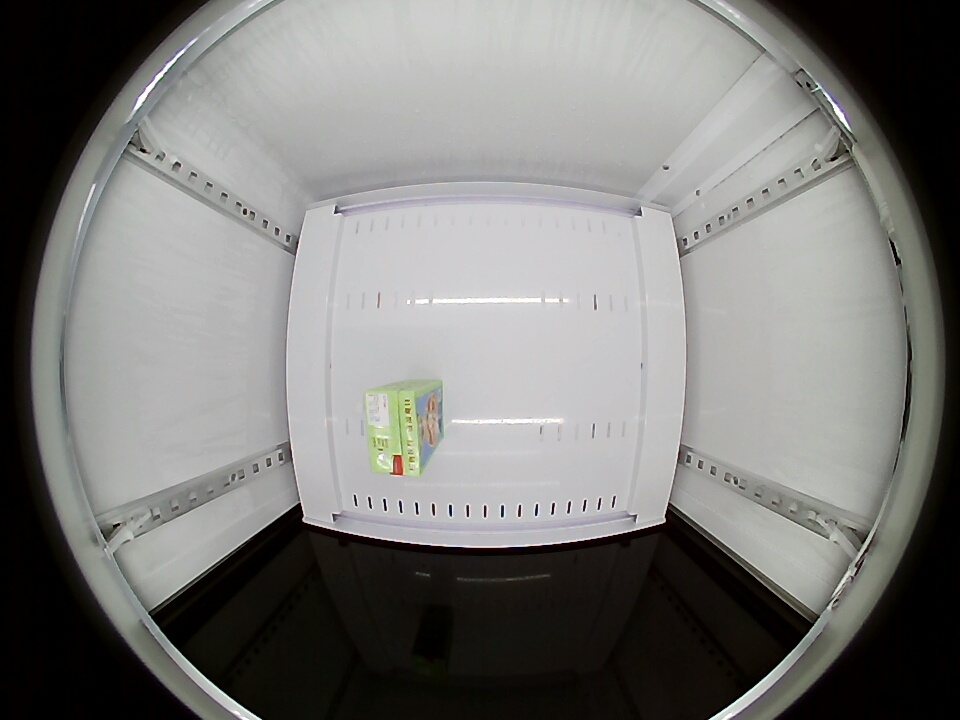wanglaoji: (365, 383, 435, 478)
